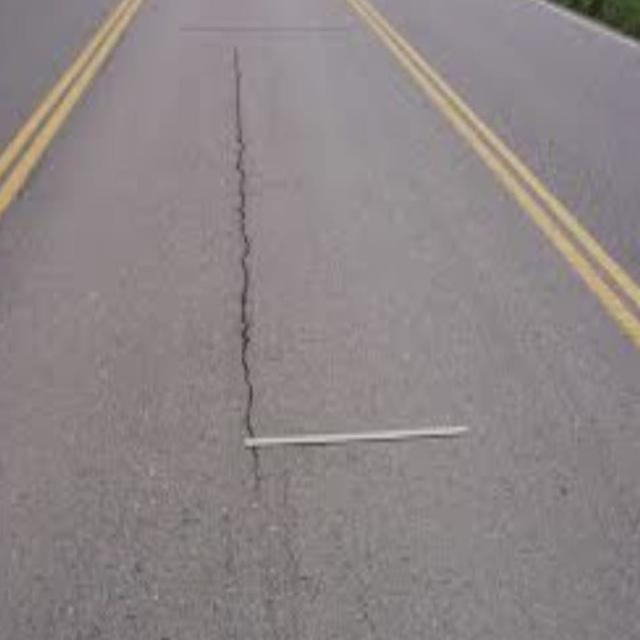Memanjang: (226, 30, 297, 514)
